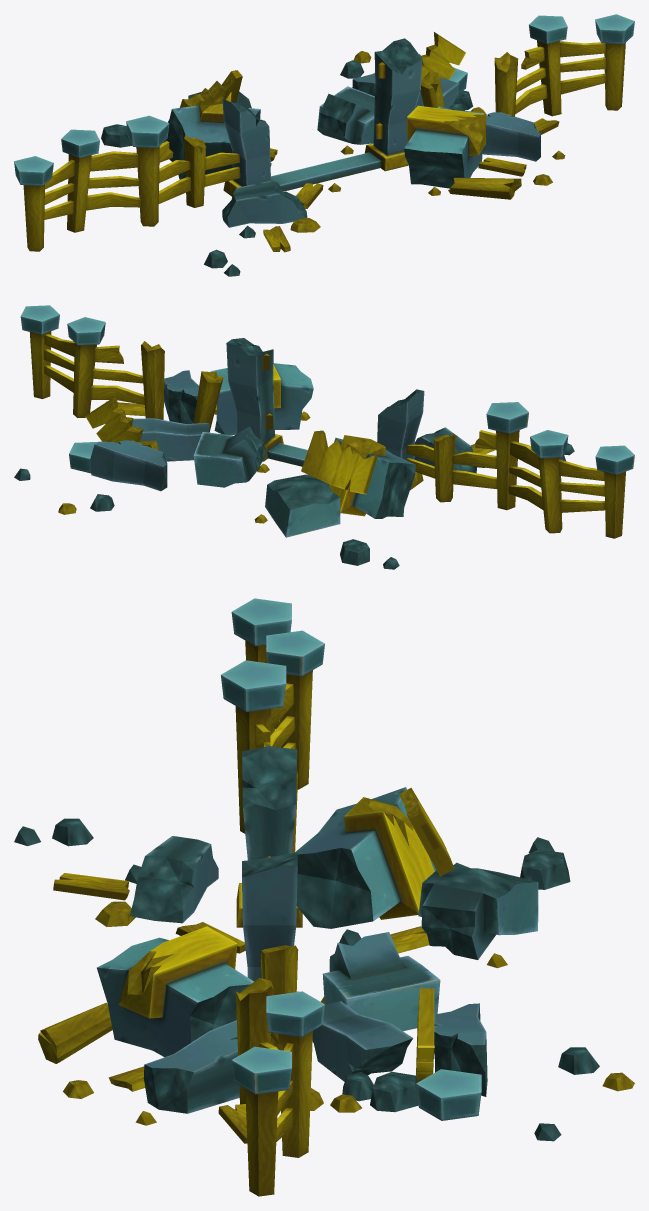
Rendered from tenkei_gate01d.obj.
3 views of the same model, one above another, from view 1: azimuth 30°, elevation 25°; view 2: azimuth 150°, elevation 25°; view 3: azimuth 270°, elevation 25° (orthographic). The views are drawn at different scales.
Parts seen in each view (by area): view 1: tenkei_gate01d.001; view 2: tenkei_gate01d.001; view 3: tenkei_gate01d.001.
Part boxes in pixels (box(x1,y1,x2,y2)): tenkei_gate01d.001: box(14, 14, 634, 276); tenkei_gate01d.001: box(14, 305, 634, 569); tenkei_gate01d.001: box(14, 598, 634, 1196).
Size of the model in its own units: 8.17 by 1.45 by 4.51.
1 material, 1 textured.
